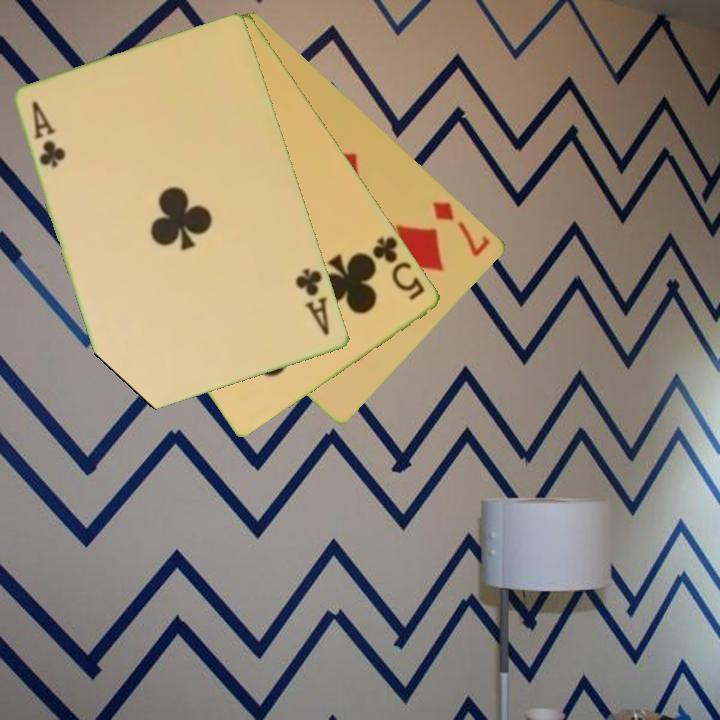5c: (369, 233, 428, 304)
7d: (429, 197, 494, 260)
Ac: (292, 264, 333, 339), (29, 97, 69, 171)
